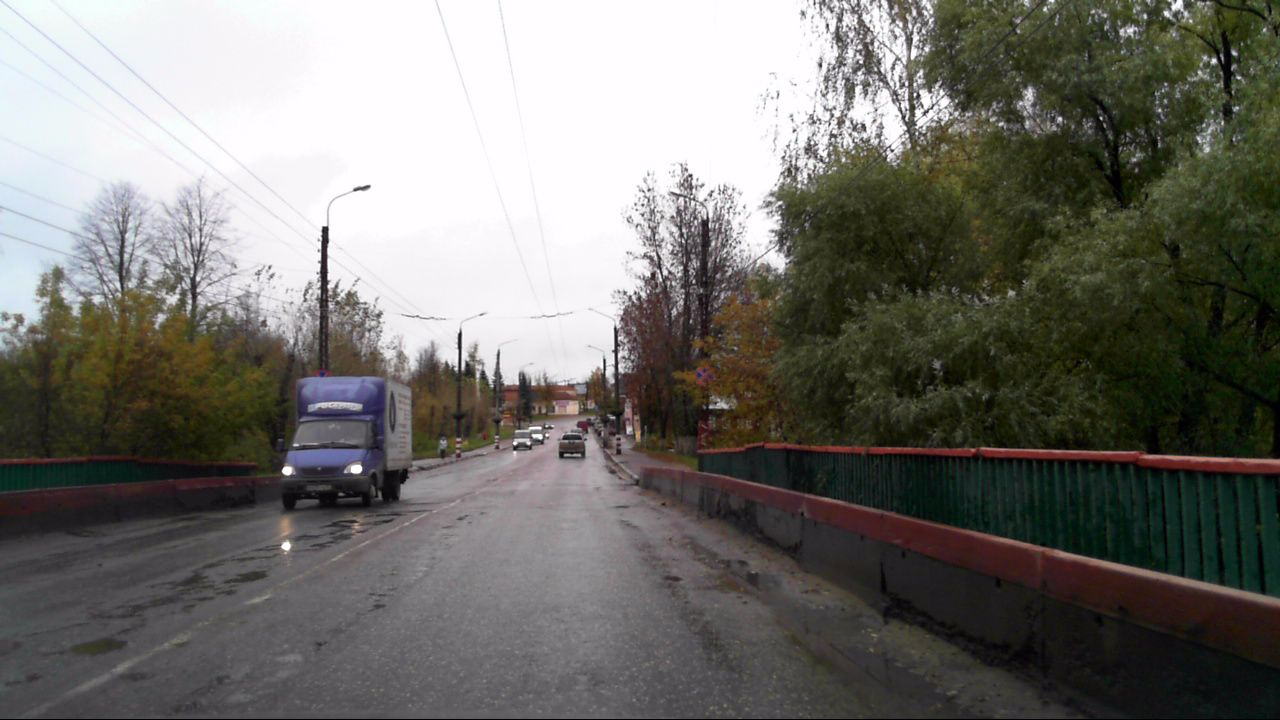No Parking: (694, 365, 715, 386)
